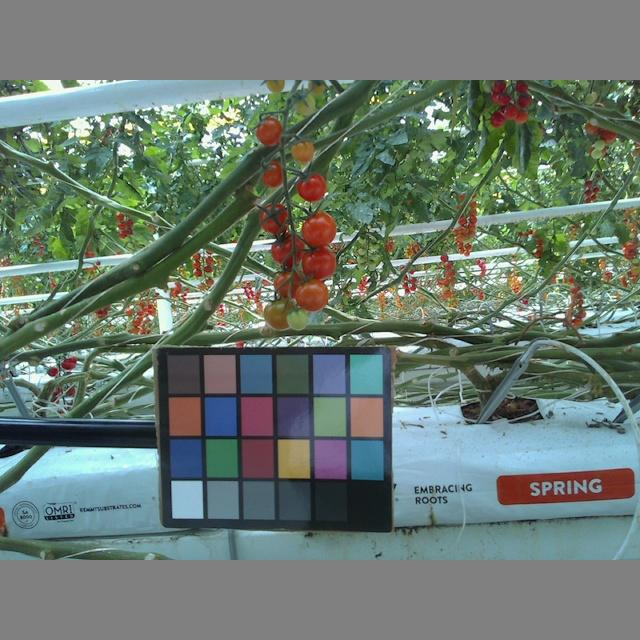green: (287, 306, 310, 331), (291, 94, 316, 116)
pink: (263, 296, 299, 330), (297, 281, 330, 312), (272, 269, 306, 297), (290, 139, 315, 161)
red: (300, 245, 335, 278), (299, 210, 333, 243), (270, 233, 304, 266), (253, 116, 285, 148), (259, 202, 291, 233), (295, 172, 326, 202), (261, 161, 287, 185)
